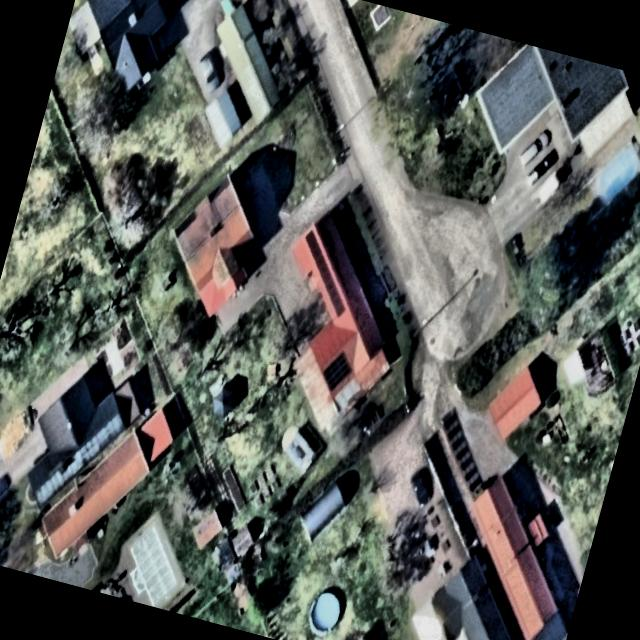roof_pv: (317, 346, 356, 396), (316, 282, 352, 322), (300, 228, 331, 260), (310, 256, 342, 287)
